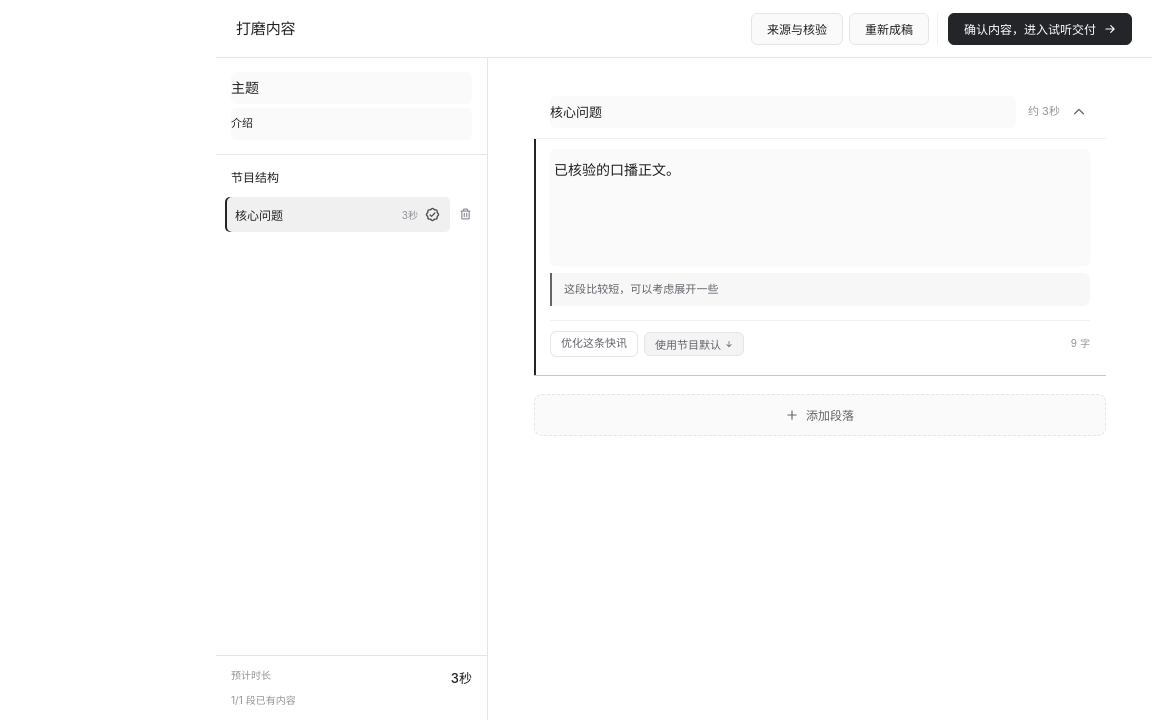
Test case: focused content workbench › opens without rewriting facts, invalidating audio or losing claim bindings
Expected: the text box showing "已核验的口播正文。" is shown, [550, 149, 1090, 265]
What coordinates should you click on to do the following:
click the button "来源与核验"
I would click on:
 (797, 28)
Its box is [751, 12, 843, 44].
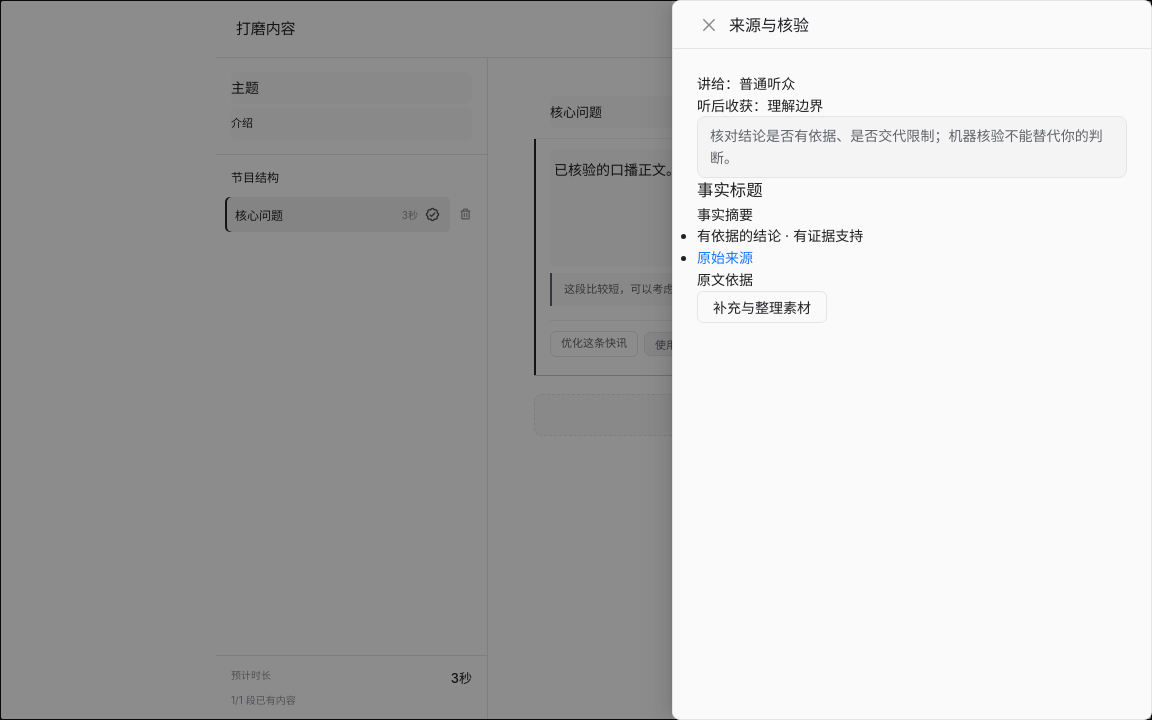
Now the list item "有依据的结论 · 有证据支持" is shown, box [697, 227, 863, 244]
